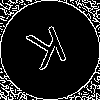K: (25, 25, 74, 79)
